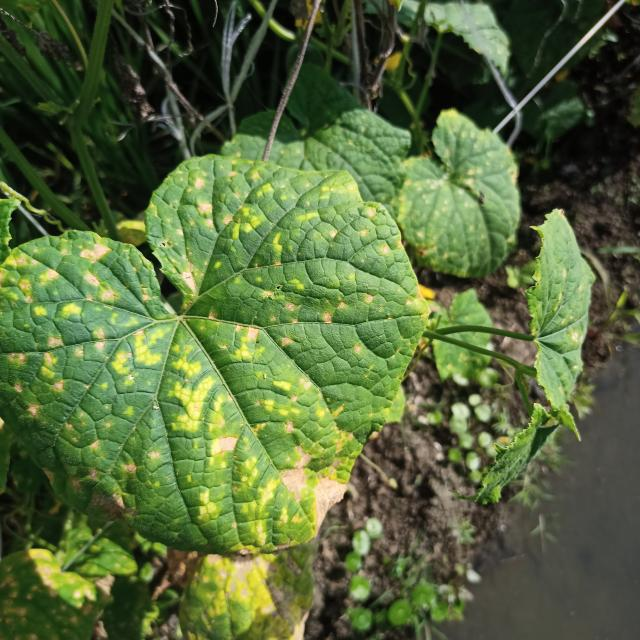disease_cucumber: (0, 162, 397, 550)
